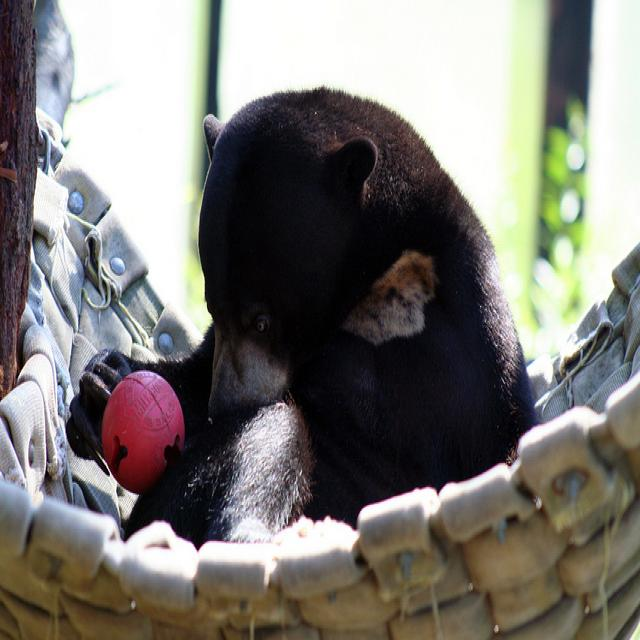Bear: (171, 70, 542, 516)
